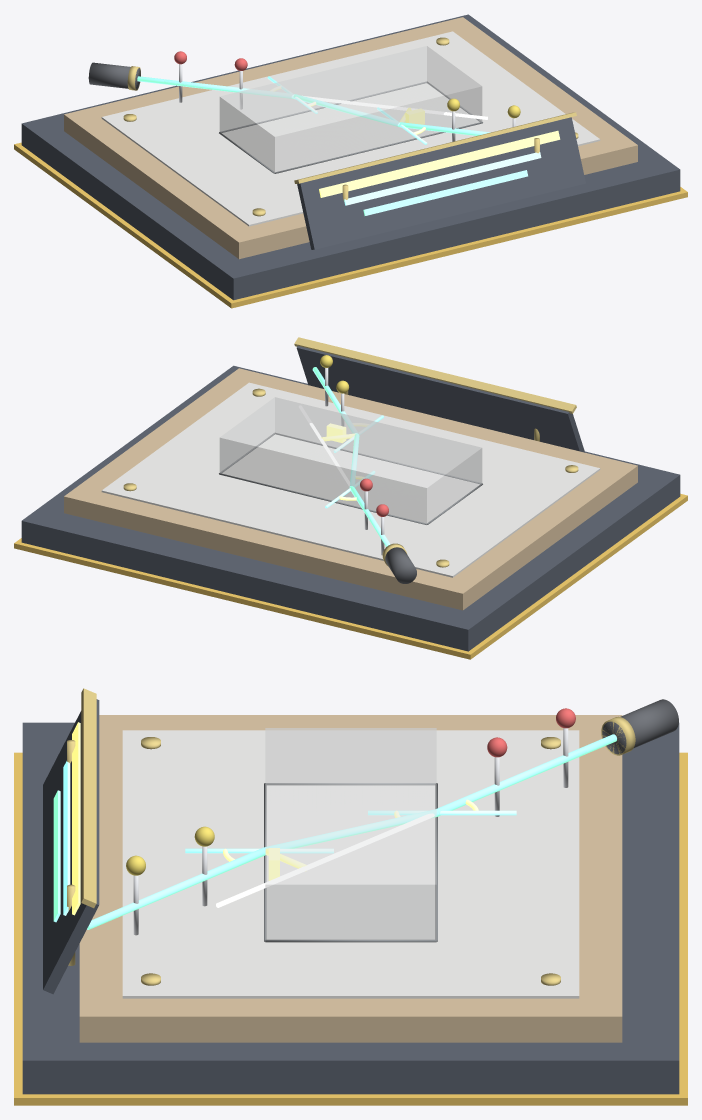
The model's file is glass-slab.glb.
The picture shows the model from 3 angles, top to bottom: view 1: azimuth 30°, elevation 25°; view 2: azimuth 150°, elevation 25°; view 3: azimuth 270°, elevation 25°; orthographic projection. The views are drawn at different scales.
Visible parts, largest first — view 1: gs_full_paper, gs_full_plinth, gs_full_slab, gs_sec_slab, gs_full_board, gs_sec_plaque_face, gs_full_plinth_rim, gs_sec_title_bar, gs_sec_formula_bar1, gs_sec_plaque_trim, gs_sec_formula_bar2, gs_full_laser_barrel (+4 smaller); view 2: gs_full_paper, gs_full_plinth, gs_full_board, gs_full_slab, gs_sec_slab, gs_sec_plaque_face, gs_full_plinth_rim, gs_sec_plaque_trim, gs_full_laser_barrel; view 3: gs_full_paper, gs_full_plinth, gs_full_board, gs_full_slab, gs_sec_slab, gs_full_plinth_rim, gs_sec_plaque_face, gs_sec_plaque_trim, gs_full_laser_barrel, gs_sec_title_bar, gs_full_beam_emergent, gs_full_beam_refracted (+9 smaller).
Part boxes in pixels (box(x1,y1,x2,y2)): gs_full_paper: box(101, 31, 600, 226); gs_full_plinth: box(21, 14, 680, 300); gs_full_slab: box(220, 46, 481, 171); gs_sec_slab: box(220, 46, 481, 171); gs_full_board: box(64, 17, 637, 259); gs_sec_plaque_face: box(297, 117, 585, 249); gs_full_plinth_rim: box(14, 142, 687, 308); gs_sec_title_bar: box(319, 130, 560, 197); gs_sec_formula_bar1: box(344, 152, 541, 205); gs_sec_plaque_trim: box(294, 112, 576, 183); gs_sec_formula_bar2: box(363, 170, 527, 215); gs_full_laser_barrel: box(88, 62, 140, 89); gs_full_paper: box(101, 382, 600, 577); gs_full_plinth: box(21, 365, 680, 651); gs_full_board: box(64, 368, 637, 610); gs_full_slab: box(220, 397, 481, 523); gs_sec_slab: box(220, 397, 481, 522); gs_sec_plaque_face: box(296, 346, 584, 452); gs_full_plinth_rim: box(14, 493, 687, 659); gs_sec_plaque_trim: box(294, 337, 576, 413); gs_full_laser_barrel: box(385, 547, 416, 583); gs_full_paper: box(122, 730, 579, 998); gs_full_plinth: box(22, 722, 679, 1094); gs_full_board: box(79, 715, 622, 1042); gs_full_slab: box(265, 728, 436, 939); gs_sec_slab: box(265, 728, 436, 939); gs_full_plinth_rim: box(14, 752, 687, 1105); gs_sec_plaque_face: box(43, 699, 99, 994); gs_sec_plaque_trim: box(81, 688, 96, 908); gs_full_laser_barrel: box(602, 699, 678, 754); gs_sec_title_bar: box(72, 722, 80, 915); gs_full_beam_emergent: box(87, 847, 266, 929); gs_full_beam_refracted: box(265, 809, 438, 848).
Size of the model in its own units: 0.286 by 0.0569 by 0.236.
